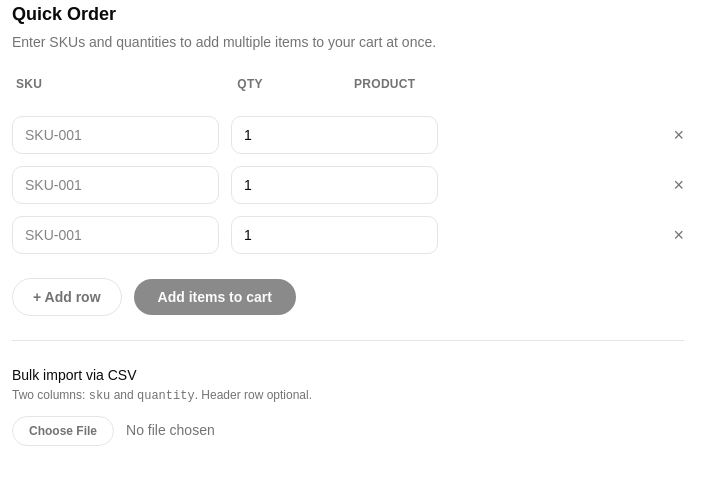
Test case: QuickOrderPage › resets rows after successful add
This screenshot has width=701, height=477.
Type "TSS-001" into the 1st field with placeholder "SKU-001" at (116, 135), box x1=12 y1=116 x2=219 y2=154
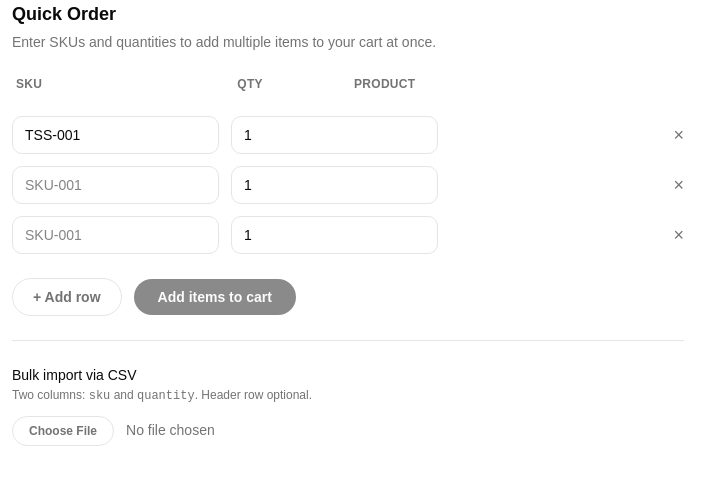
Leave the field with placeholder "SKU-001", box x1=12 y1=116 x2=219 y2=154
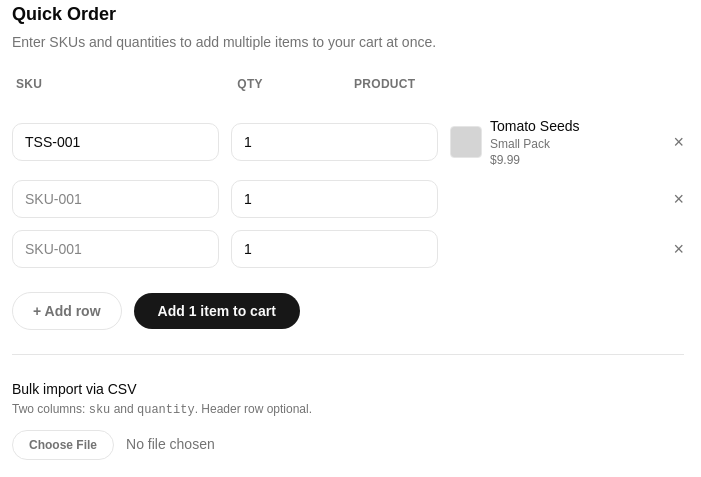
Now the text "Tomato Seeds" is shown, box x1=490 y1=116 x2=580 y2=136
Click the button "Add 1 item to cart" at (217, 311), box x1=134 y1=293 x2=300 y2=329
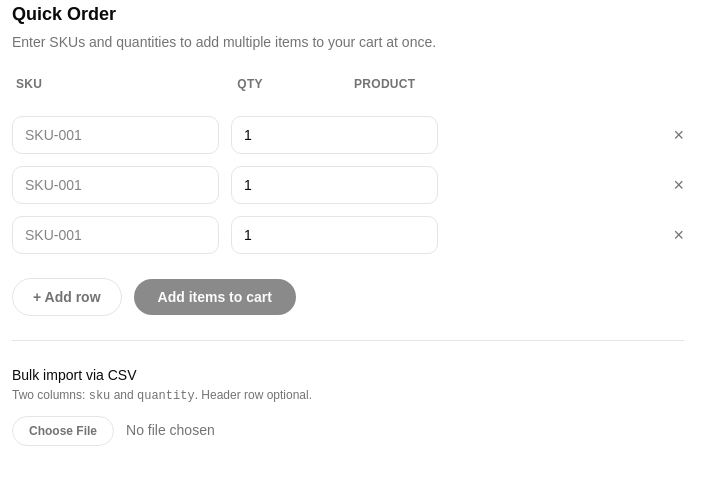
Expected: the number of fields with placeholder "SKU-001" is 3, x1=12 y1=116 x2=219 y2=154; x1=12 y1=166 x2=219 y2=204; x1=12 y1=216 x2=219 y2=254
Now the text "Tomato Seeds" is gone
